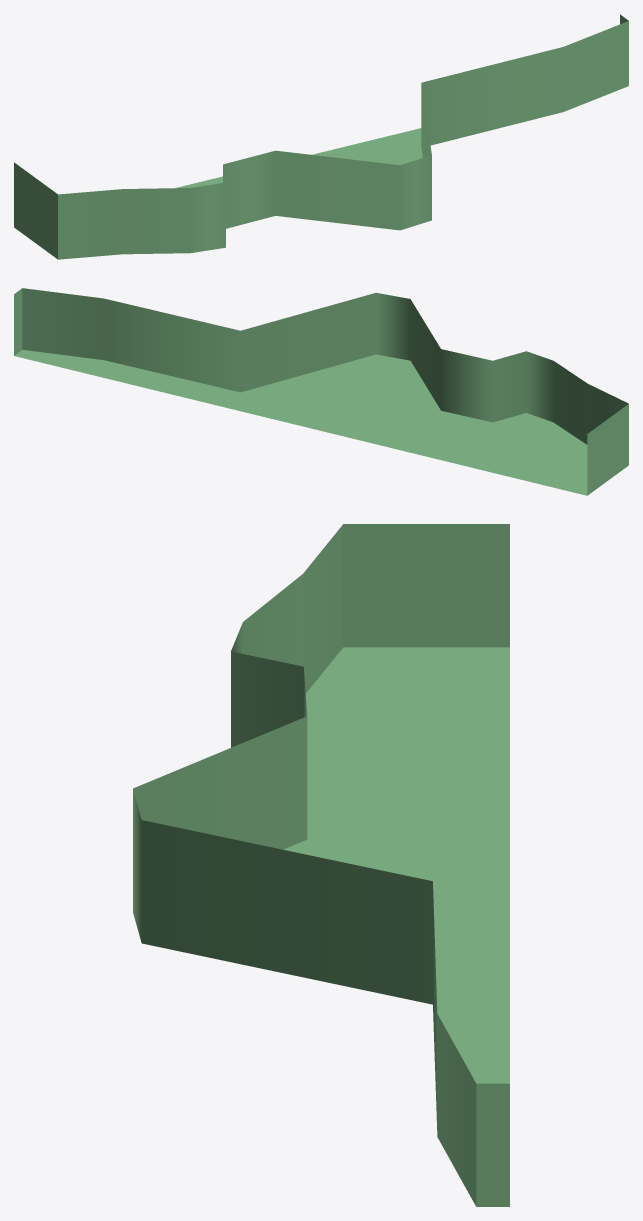
File: Hallway_Cap_16_C_COL.FBX
3 views of the same model, one above another, from view 1: azimuth 30°, elevation 25°; view 2: azimuth 150°, elevation 25°; view 3: azimuth 270°, elevation 25° (orthographic). The views are drawn at different scales.
Visible parts, largest first — view 1: Hallway_Cap_16_C_COL; view 2: Hallway_Cap_16_C_COL; view 3: Hallway_Cap_16_C_COL.
Boxes of the visible parts, x1,y1,x2,y2 form: Hallway_Cap_16_C_COL: (14, 14, 628, 259); Hallway_Cap_16_C_COL: (14, 288, 628, 495); Hallway_Cap_16_C_COL: (133, 524, 509, 1206).
Bounding box in the file's own units: 1548 × 159 × 441.
